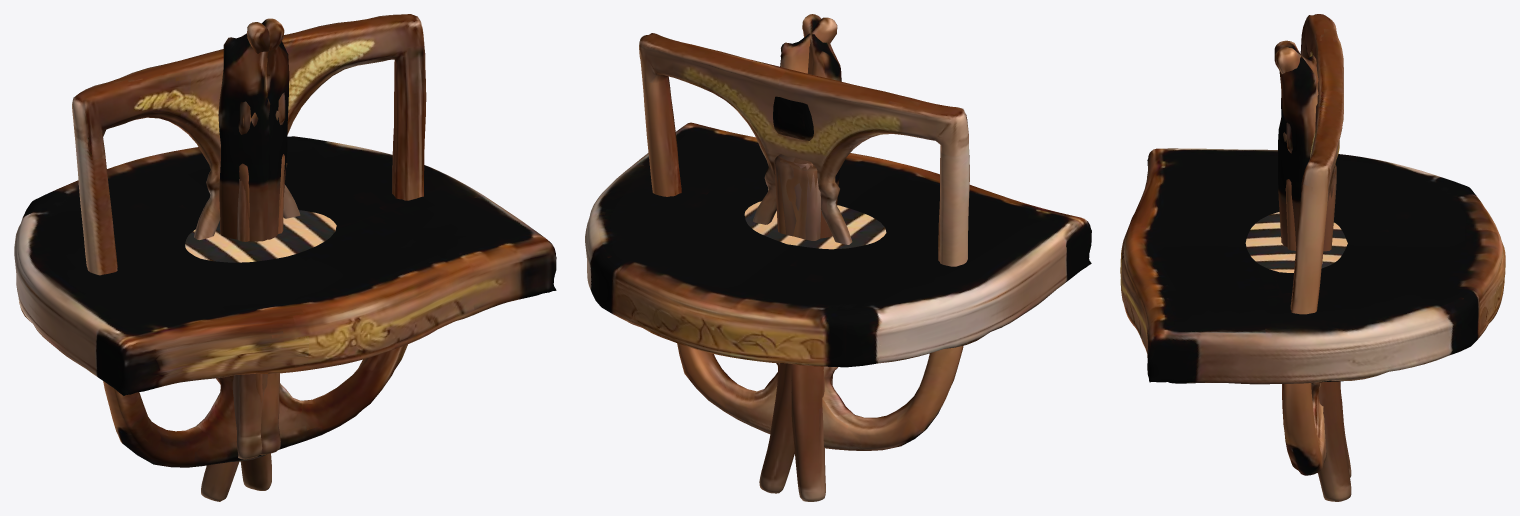
The picture shows the model from 3 angles, left to right: view 1: azimuth 30°, elevation 25°; view 2: azimuth 150°, elevation 25°; view 3: azimuth 270°, elevation 25°; orthographic projection. The views are drawn at different scales.
Parts seen in each view (by area): view 1: root.0, root.1, root.5, root.4, root.2, root.6, root.7; view 2: root.0, root.1, root.4, root.5, root.6, root.7, root.2; view 3: root.0, root.1, root.4, root.5, root.2, root.7, root.6.
Boxes of the visible parts, <box> form: root.0: <box>14,136,556,395</box>; root.1: <box>72,14,426,467</box>; root.5: <box>218,18,284,490</box>; root.4: <box>201,22,289,501</box>; root.2: <box>185,210,336,262</box>; root.6: <box>232,92,285,459</box>; root.7: <box>238,101,284,455</box>; root.0: <box>585,122,1091,367</box>; root.1: <box>639,33,969,450</box>; root.4: <box>780,17,837,501</box>; root.5: <box>759,14,841,493</box>; root.6: <box>773,96,832,384</box>; root.7: <box>775,100,817,239</box>; root.2: <box>744,201,886,249</box>; root.0: <box>1120,148,1505,384</box>; root.1: <box>1282,14,1343,475</box>; root.4: <box>1274,40,1351,477</box>; root.5: <box>1274,47,1351,501</box>; root.2: <box>1168,212,1347,383</box>; root.7: <box>1286,134,1336,251</box>; root.6: <box>1285,122,1336,241</box>.
Bounding box in the file's own units: 16683 × 18000 × 14110.
1 material, 1 textured.
